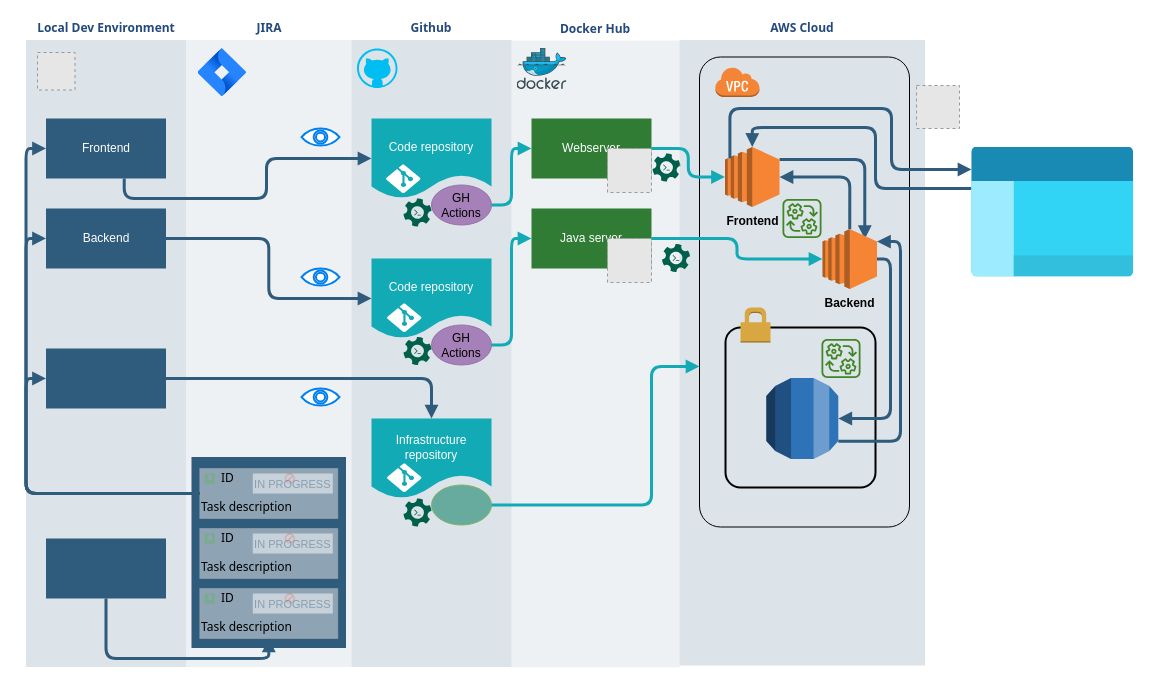
Image size: 1151x685. Some labels were removed from this diagram. Grey dashed boxes stand in for pictures. Here are the shapes that lost their labels. From the top down, the centre of each, then its label:
At point (106, 378): "DevOPS".
At point (801, 418): "Database".
At point (461, 504): "Terraform".
At point (106, 568): "QA".
